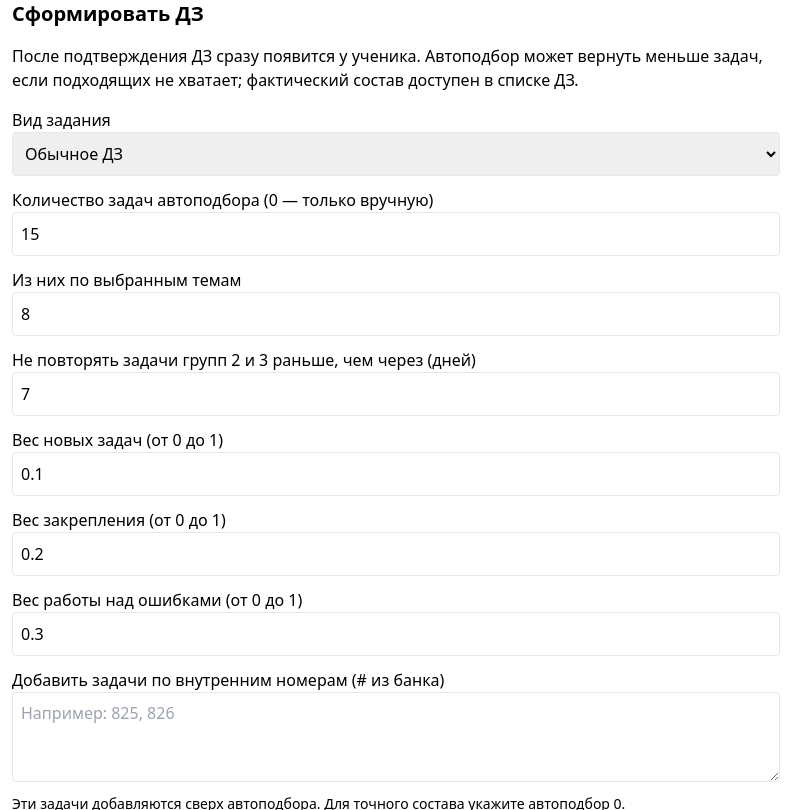
assigns exact manual IDs once using the relationship ID and numeric test wire value
Replace the text in the number field labelled "Количество задач автоподбора (0 — только вручную)" with "0" at (396, 234), box left=12, top=212, right=780, bottom=256
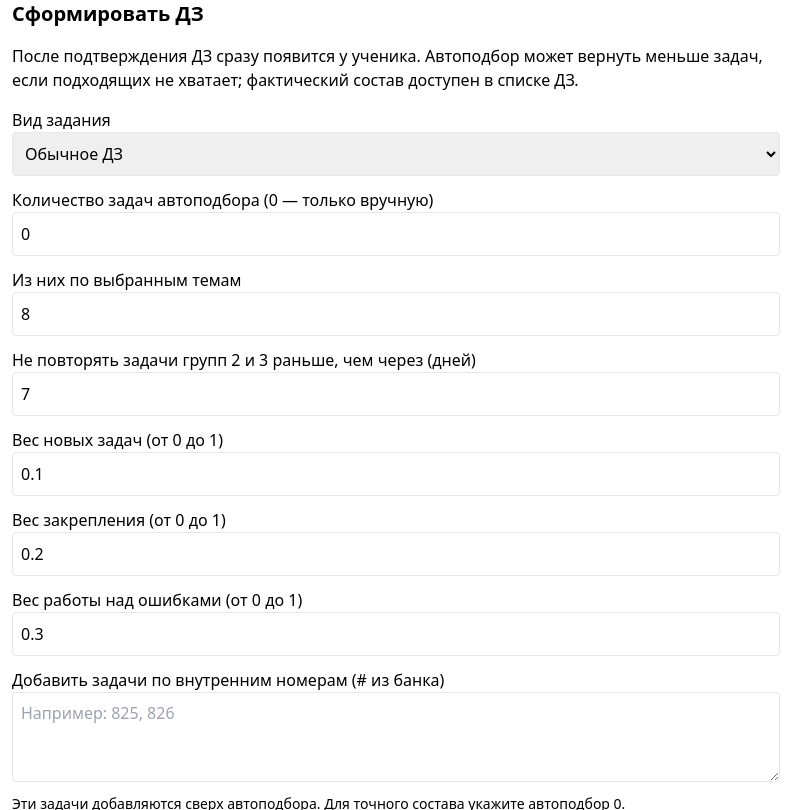
Replace the text in the number field labelled "Из них по выбранным темам" with "0" at (396, 314), box left=12, top=292, right=780, bottom=336
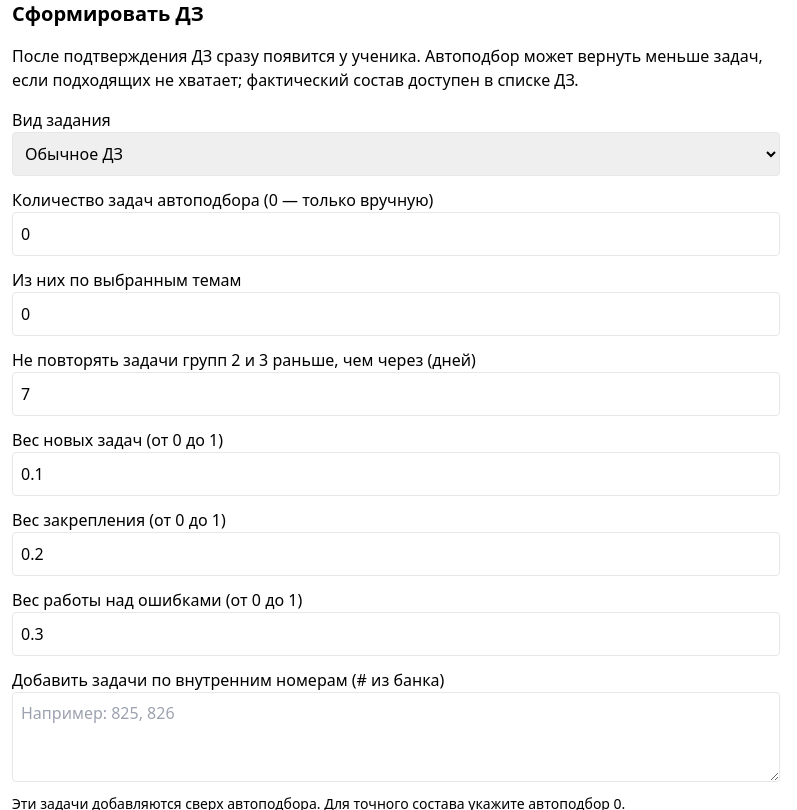
Type "825, 825" into the text box labelled "Добавить задачи по внутренним номерам (# из банка)" at (396, 737), box left=12, top=692, right=780, bottom=782
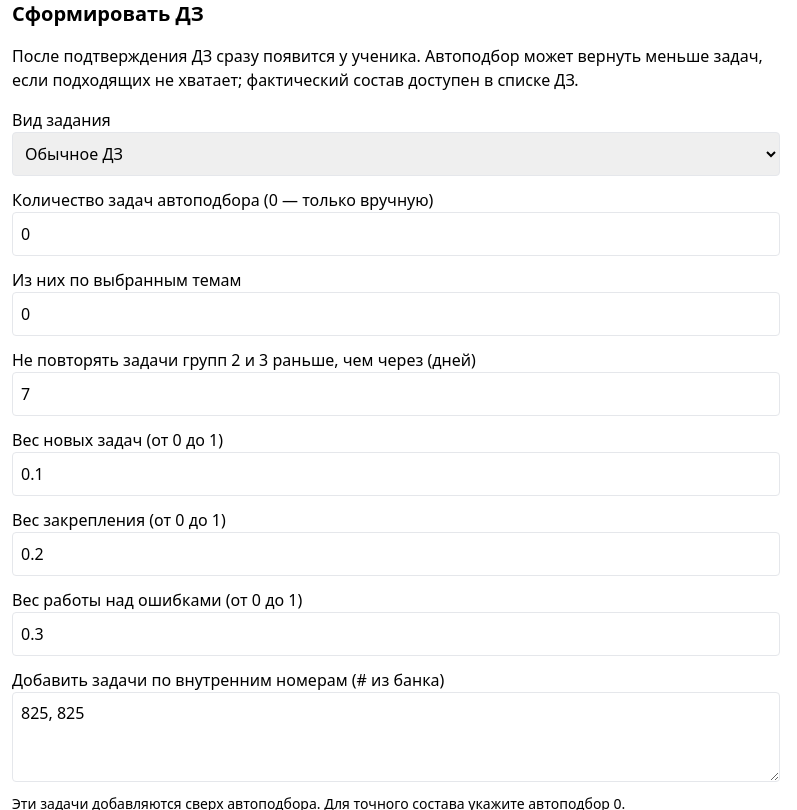
Select "Тест — результаты после общей сдачи" in the dropdown labelled "Вид задания" at (396, 154), box left=12, top=132, right=780, bottom=176
(page scrolled)
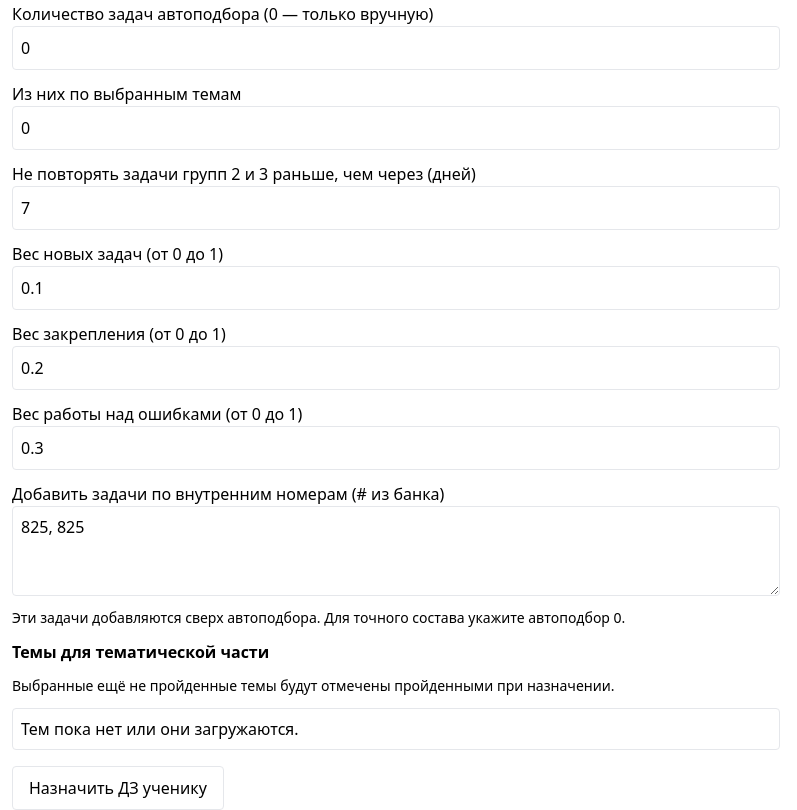
Click the button "Назначить ДЗ ученику" at (118, 788), box left=12, top=766, right=224, bottom=809
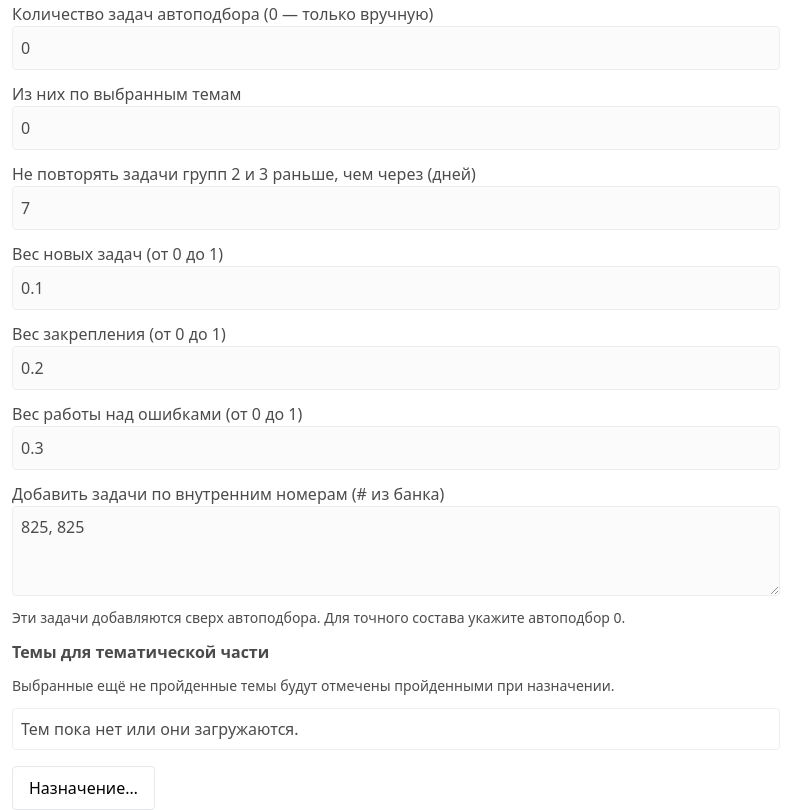
Click the button "Назначить ДЗ ученику" at (83, 788), box left=12, top=766, right=155, bottom=809
(page scrolled)
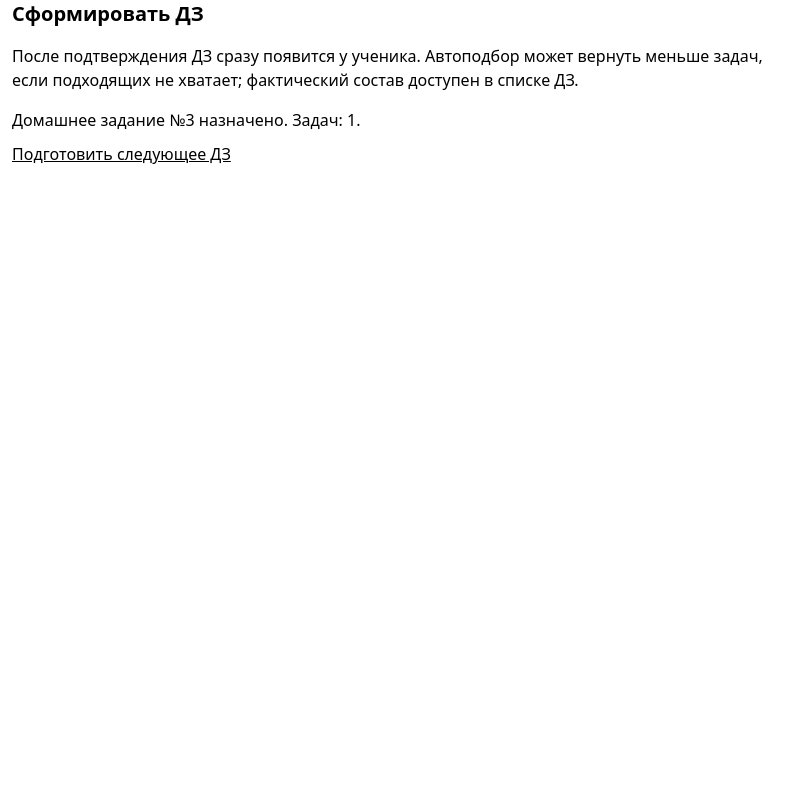
Expected: the text "Домашнее задание №3 назначено. Задач: 1. Подготовить следующее ДЗ" is shown, left=12, top=109, right=360, bottom=176
